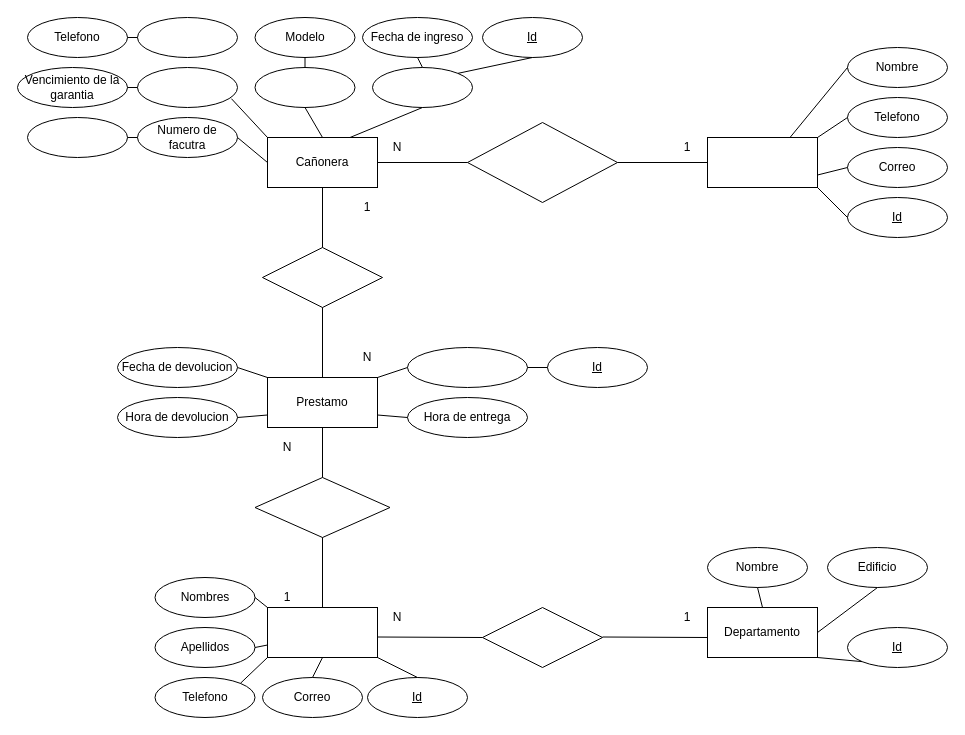
Image size: 965x735. Some labels were removed from this diagram. The shapes that lost their labels are listed below. From the top down, each one's centre as x and y in pixels, then its label:
At (x=187, y=37): "Fecha de adquisicion".
At (x=187, y=87): "Años de garantia".
At (x=304, y=87): "Numero de serie".
At (x=422, y=87): "Marca".
At (x=77, y=137): "Persona de contacto".
At (x=542, y=162): "Se compran de".
At (x=762, y=162): "Proveedor".
At (x=322, y=277): "Se entrega en".
At (x=467, y=367): "Fecha de entrega".
At (x=322, y=507): "Son solicitados por".
At (x=322, y=632): "Empleado".
At (x=542, y=637): "Trabaja en".
